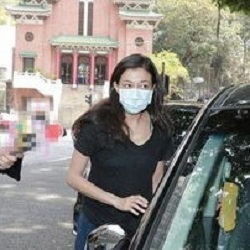mask: (109, 77, 158, 115)
